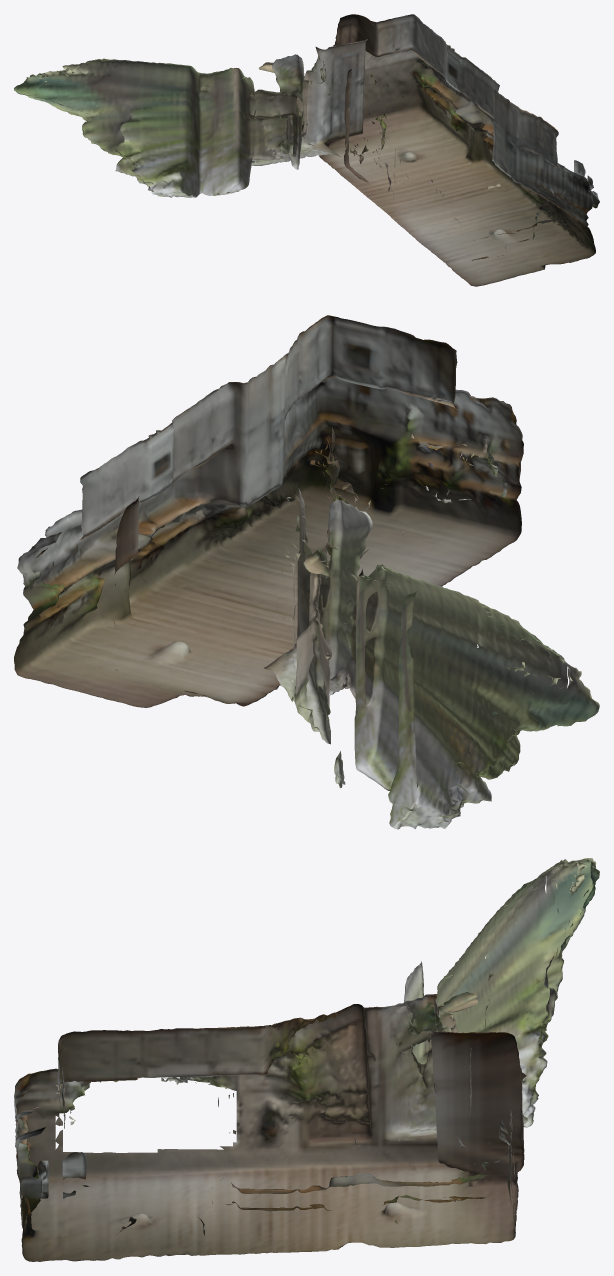
The model's file is rustic_kitchen_with_natural_light_collider.glb.
The picture shows the model from 3 angles, top to bottom: view 1: azimuth 30°, elevation 25°; view 2: azimuth 150°, elevation 25°; view 3: azimuth 270°, elevation 25°; orthographic projection. The views are drawn at different scales.
Parts seen in each view (by area): view 1: world; view 2: world; view 3: world.
Boxes of the visible parts, left/top/right/bottom form: world: left=14, top=14, right=599, bottom=286; world: left=14, top=315, right=599, bottom=829; world: left=14, top=858, right=599, bottom=1261.
Size of the model in its own units: 7.14 by 2.68 by 6.92.
